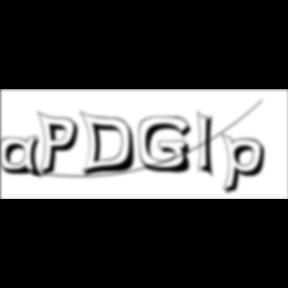D: (80, 110, 142, 180)
G: (138, 116, 198, 176)
P: (37, 110, 84, 180)
a: (0, 135, 48, 182)
l: (198, 108, 220, 182)
p: (222, 132, 272, 198)
